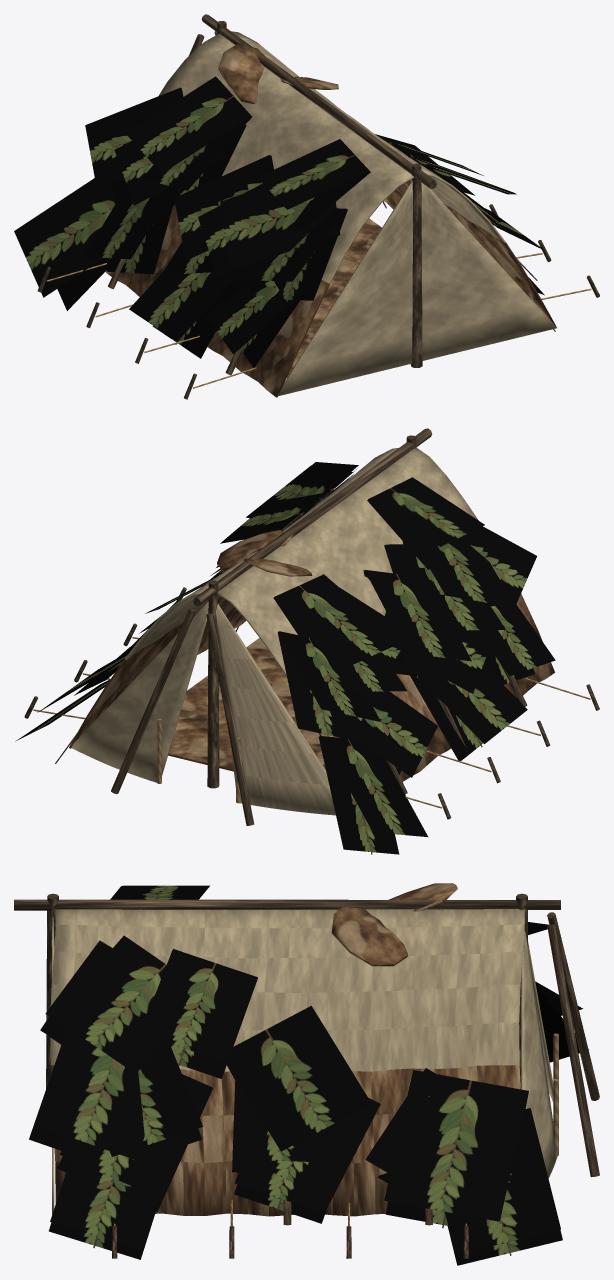
File: tenda_tela_rami.gltf
3 renders of one model, top to bottom at view 1: azimuth 30°, elevation 25°; view 2: azimuth 150°, elevation 25°; view 3: azimuth 270°, elevation 25°, orthographic. The views are drawn at different scales.
Visible parts, largest first — view 1: tenda_tela_rami; view 2: tenda_tela_rami; view 3: tenda_tela_rami.
Boxes of the visible parts, x1,y1,x2,y2 form: tenda_tela_rami: (14,14,599,399); tenda_tela_rami: (15,428,599,854); tenda_tela_rami: (14,883,599,1265).
Size of the model in its own units: 5.94 by 3.24 by 6.
Materials: 5 (5 with a texture image).
